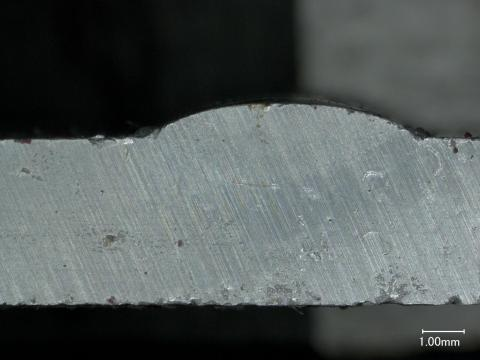test: (154, 104, 430, 141)
